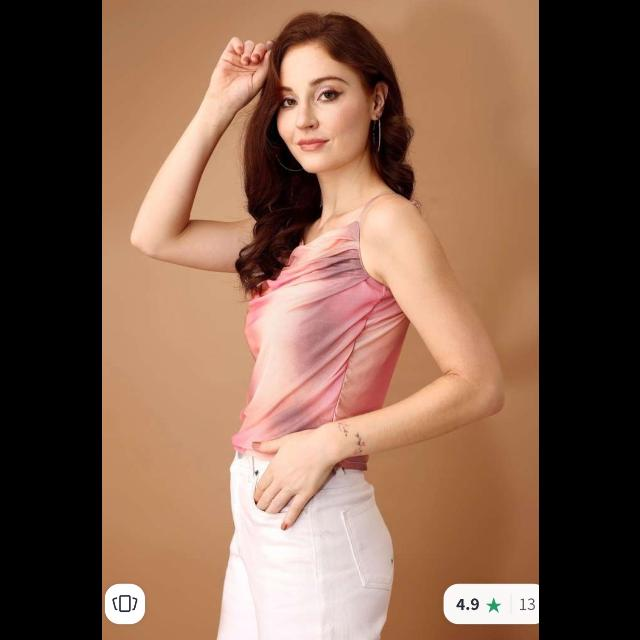bottom: (228, 432, 398, 640)
top: (240, 202, 400, 483)
